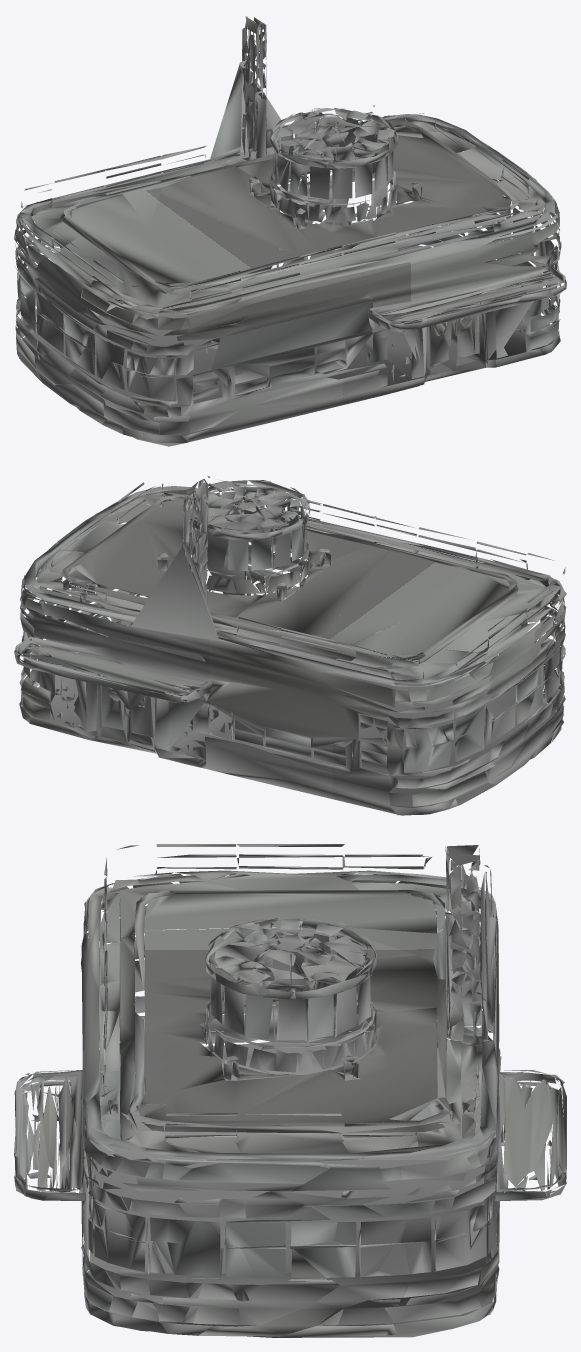
The model's file is pilothouse.glb.
3 renders of one model, top to bottom at view 1: azimuth 30°, elevation 25°; view 2: azimuth 150°, elevation 25°; view 3: azimuth 270°, elevation 25°, orthographic. The views are drawn at different scales.
Parts seen in each view (by area): view 1: LO.001; view 2: LO.001; view 3: LO.001.
Part boxes in pixels (x1,y1,x2,y2): LO.001: (14,16,566,446); LO.001: (14,475,566,815); LO.001: (14,844,566,1337).
Size of the model in its own units: 20.38 by 11.77 by 16.02.
1 material, 1 textured.
